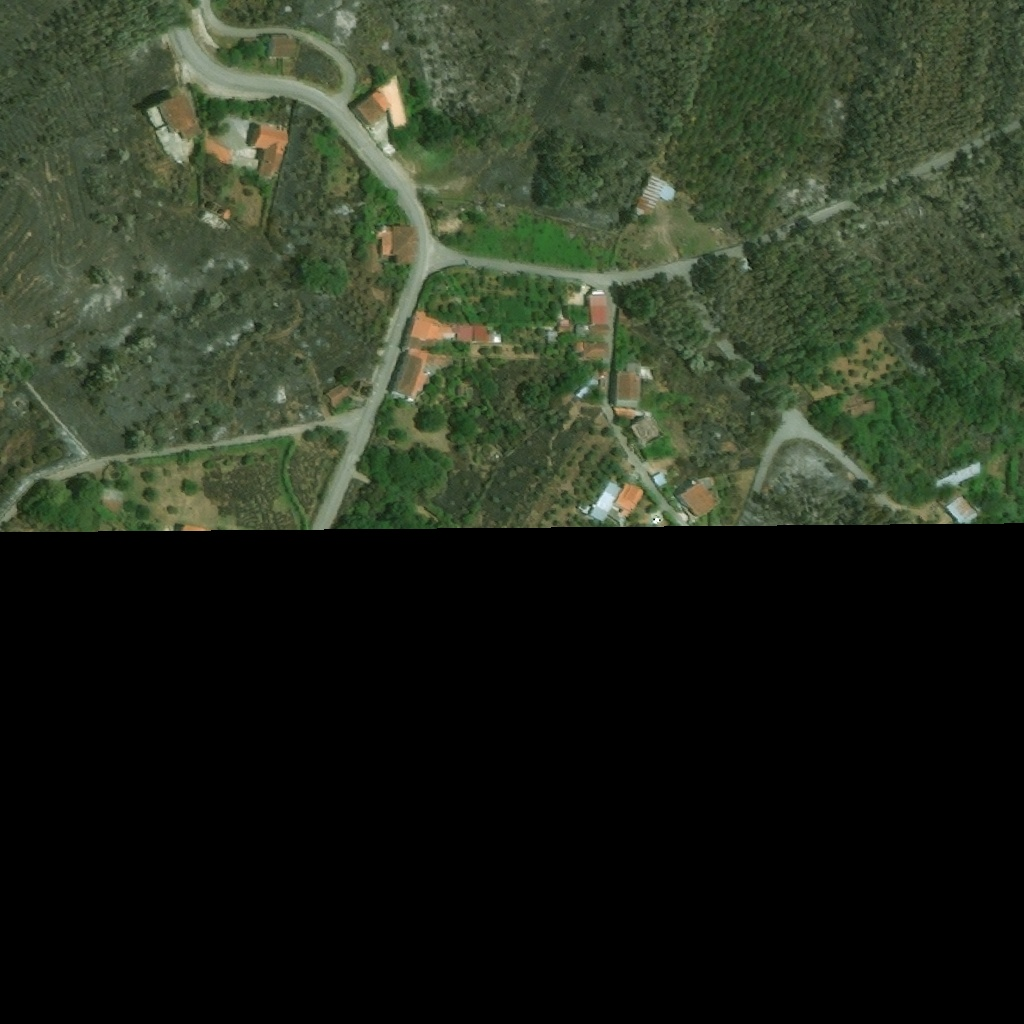0 no-damage: (353, 74, 408, 131), (633, 172, 679, 224), (248, 125, 290, 181), (391, 346, 433, 401), (590, 478, 647, 518), (156, 94, 202, 141), (405, 310, 457, 350), (376, 226, 417, 266), (681, 476, 719, 517), (934, 463, 982, 495), (630, 414, 667, 450), (617, 362, 643, 410), (198, 135, 235, 166), (324, 381, 354, 410), (573, 341, 610, 363), (576, 376, 604, 402), (101, 487, 126, 514), (944, 496, 979, 515), (271, 36, 297, 59), (475, 325, 506, 344), (577, 324, 610, 339), (146, 107, 166, 131), (457, 325, 475, 343), (652, 471, 670, 488), (589, 308, 609, 323), (589, 293, 608, 307), (617, 408, 639, 419), (559, 320, 573, 334), (547, 330, 560, 344)
3 destroyed: (200, 210, 233, 232), (201, 199, 228, 217)
4 un-classified: (839, 392, 877, 420), (365, 245, 384, 272), (232, 39, 261, 53), (643, 366, 661, 379)
